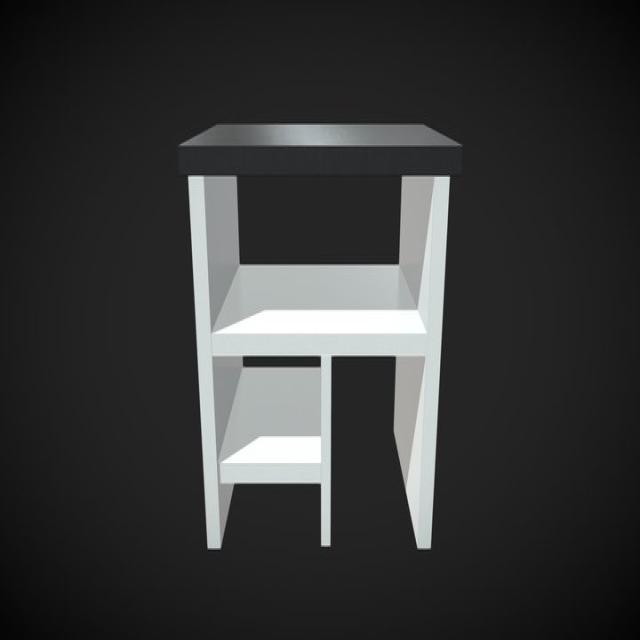table: (168, 119, 463, 554)
